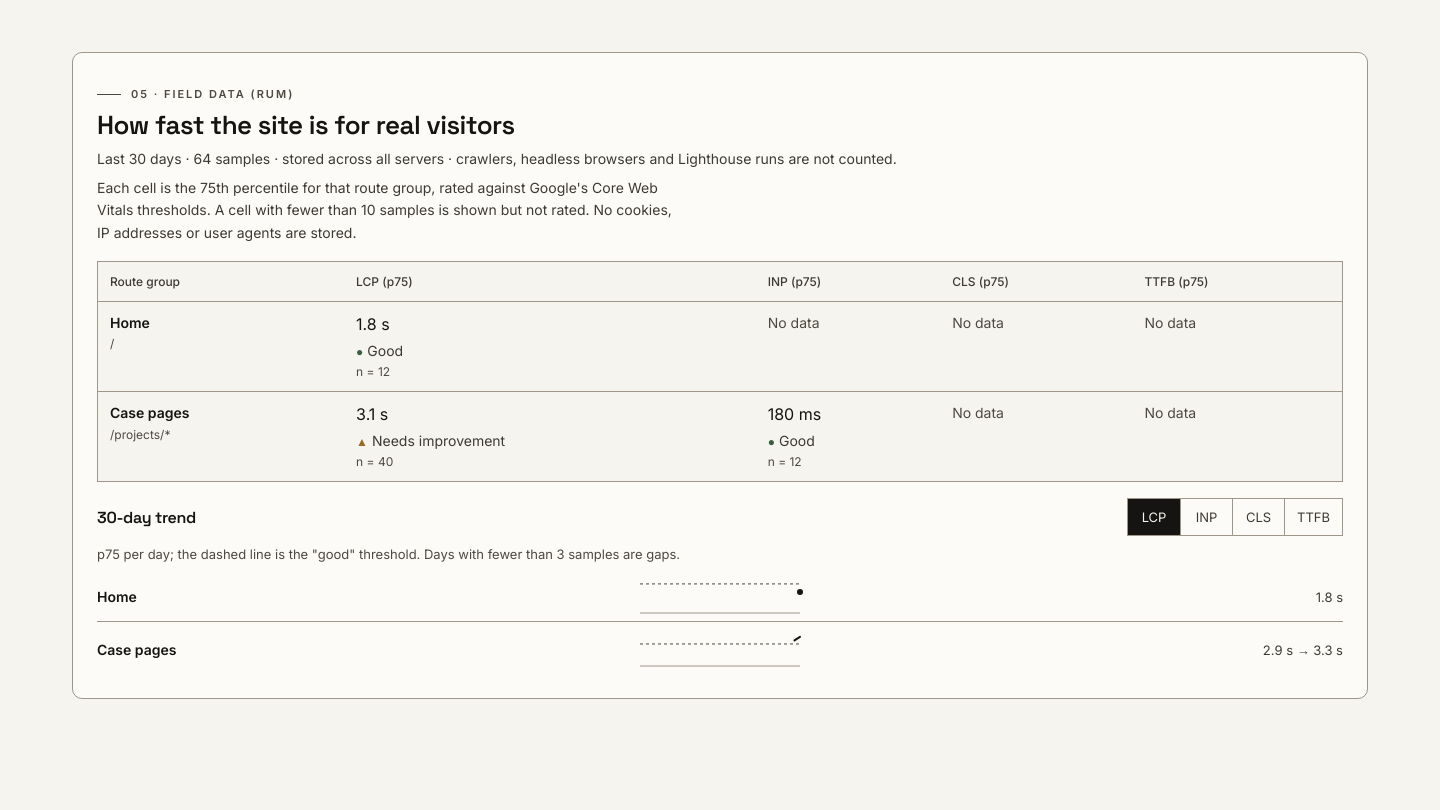
Scenario: LabTelemetryPanel field-data dashboard › switches the trend metric with pressed-state buttons
Check: the list item "Case pages 2.9 s → 3.3 s" is shown, box [97,626,1343,674]
Click the button "INP": (1206, 517) [1180,499,1232,535]
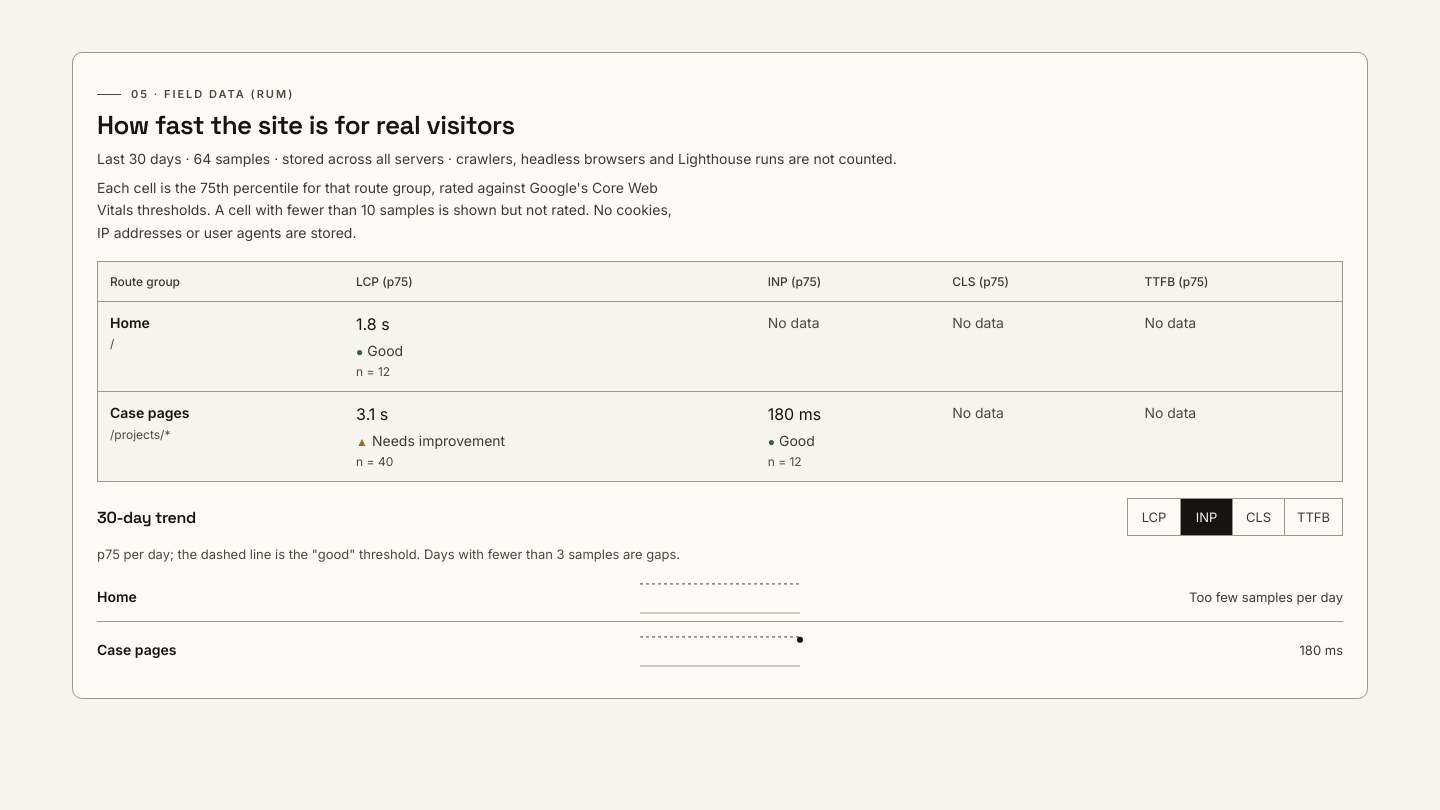
Check: the list item "Case pages 180 ms" is shown, box [97,626,1343,674]
